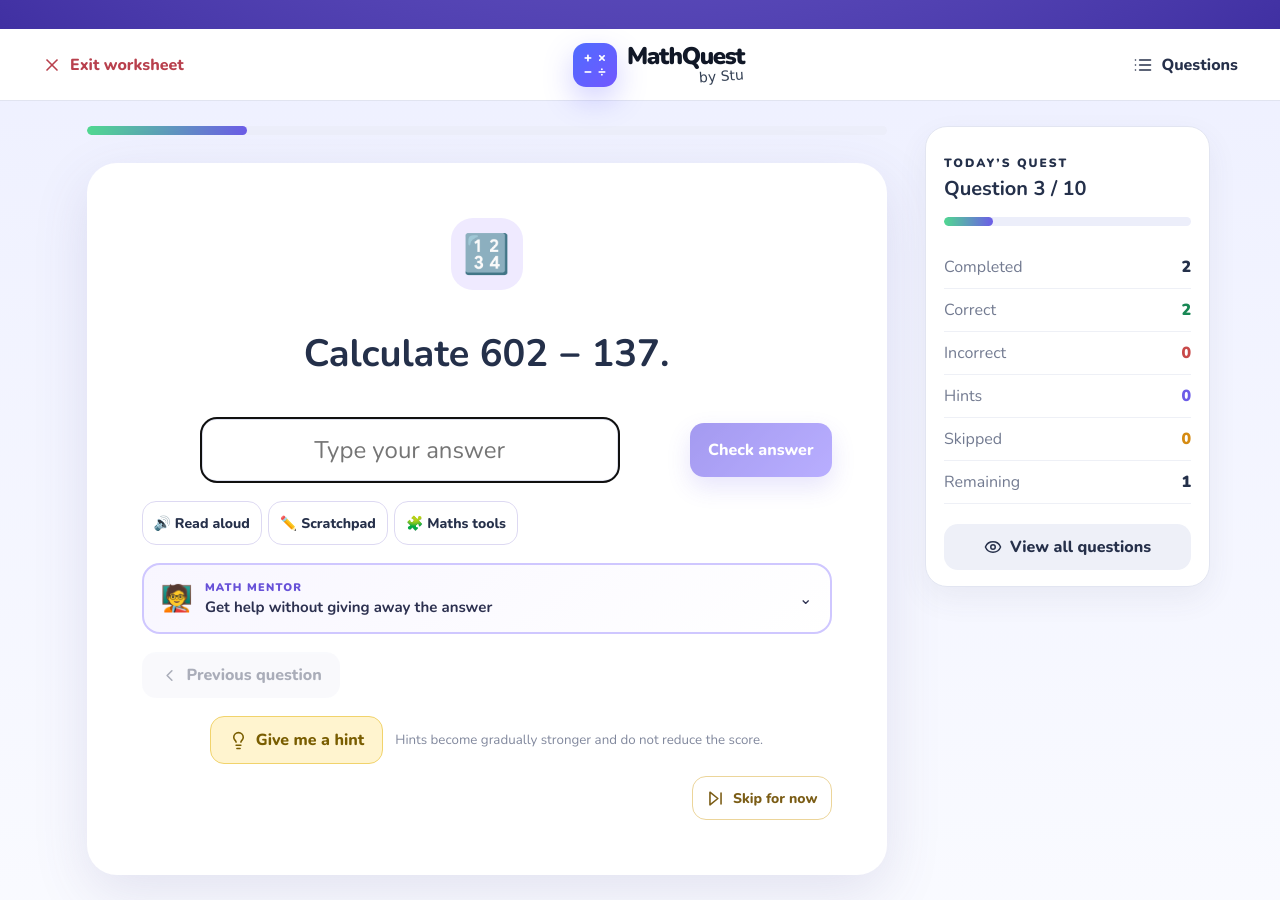
Test: final detection uses the actual collection when stored total is larger
(page scrolled)
Step 1. Type "463" into the field labelled "your answer" → (410, 450), box [200,417,620,483]
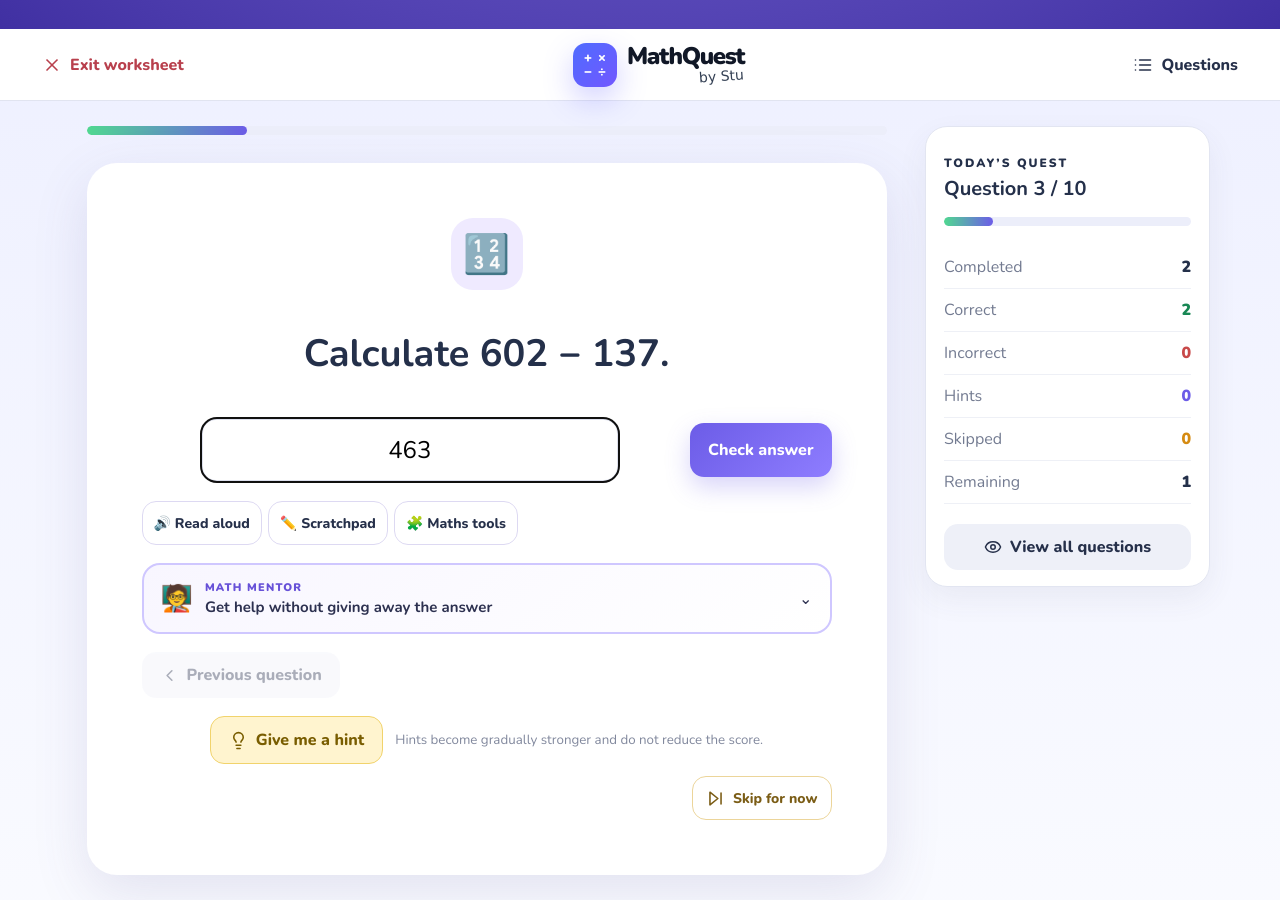
Step 2. Click the button "Check answer" → (761, 450), box [690,423,832,477]
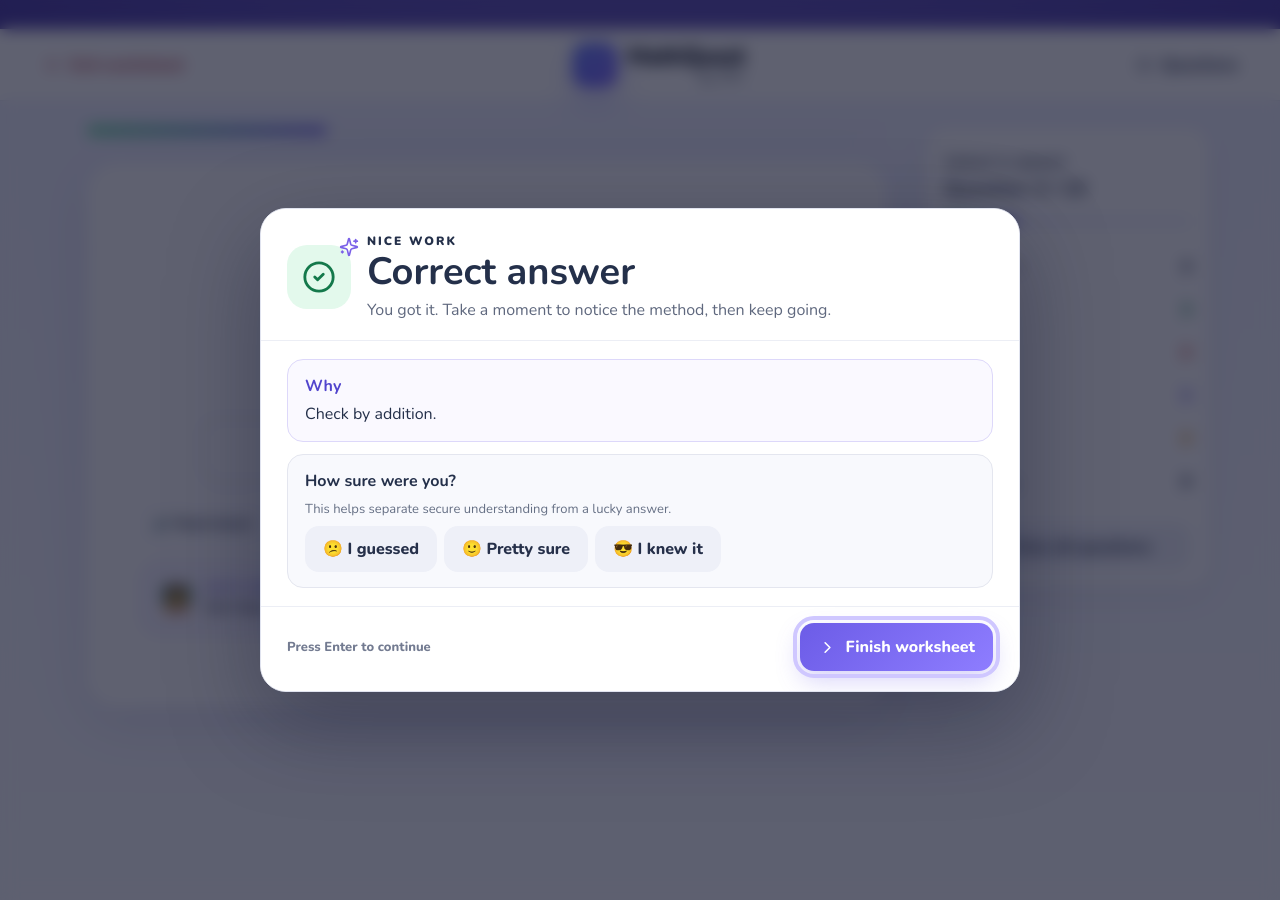
Check: the dialog "Correct answer" is shown, box [260,208,1020,692]
Check: the button "Finish worksheet" is shown, box [800,623,993,671]
